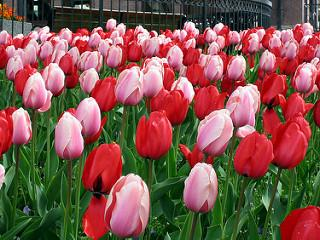tulip: (104, 174, 151, 238), (272, 113, 310, 167), (81, 143, 122, 192), (182, 162, 220, 213), (134, 110, 172, 160), (234, 131, 273, 179), (197, 107, 233, 154), (53, 112, 84, 160), (149, 88, 189, 123), (114, 66, 146, 106), (192, 84, 224, 118), (23, 72, 47, 111), (11, 107, 33, 147)
